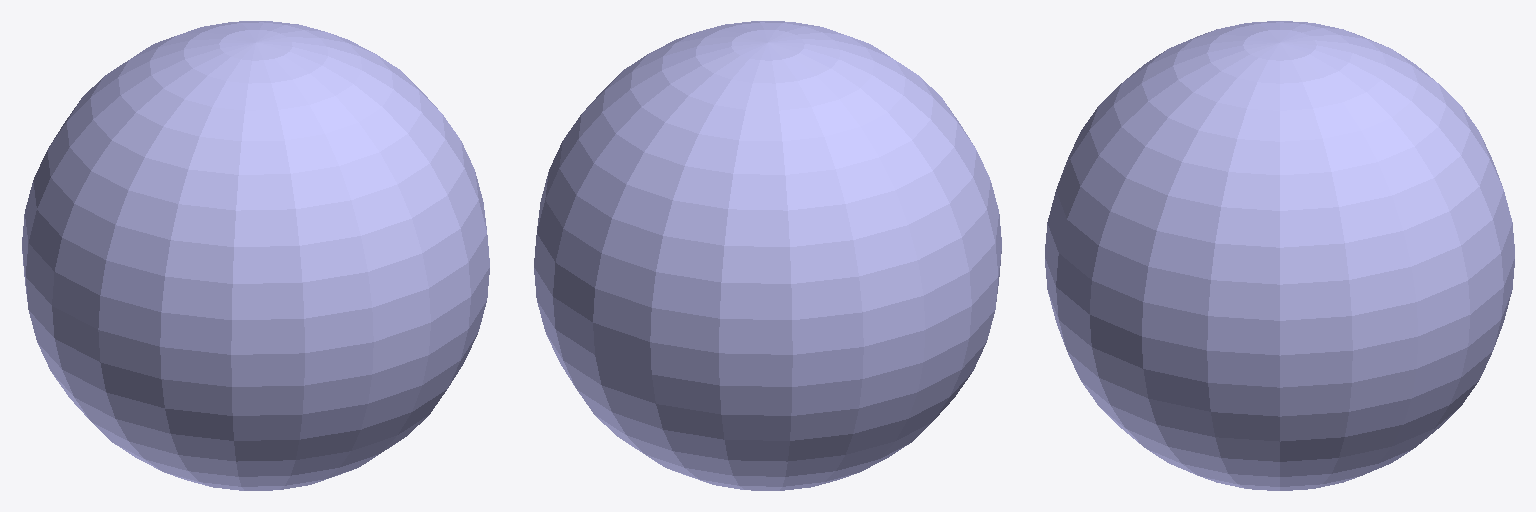
Rendered from sphere_blue_blinn_760_tris_TRIANGULATED.obj.
3 renders of one model, left to right at view 1: azimuth 30°, elevation 25°; view 2: azimuth 150°, elevation 25°; view 3: azimuth 270°, elevation 25°, orthographic.
Visible parts, largest first — view 1: pSphere1; view 2: pSphere1; view 3: pSphere1.
Part boxes in pixels (x1,y1,x2,y2): pSphere1: (22, 21, 489, 490); pSphere1: (534, 21, 1001, 490); pSphere1: (1045, 21, 1514, 490).
Size of the model in its own units: 2 by 2 by 2.